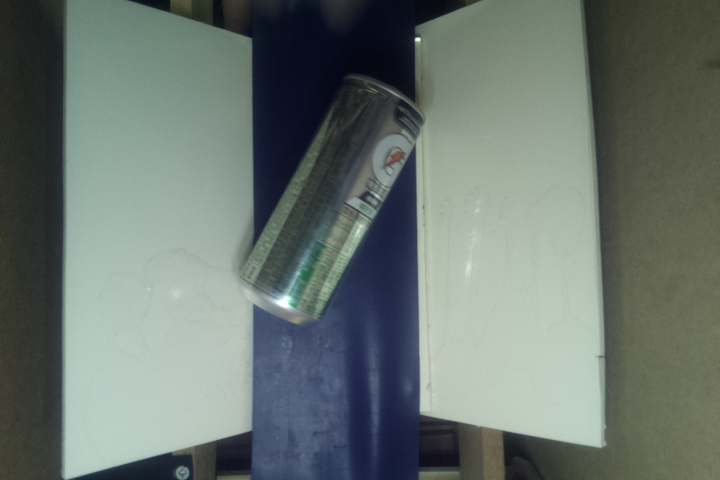can: (236, 68, 427, 326)
